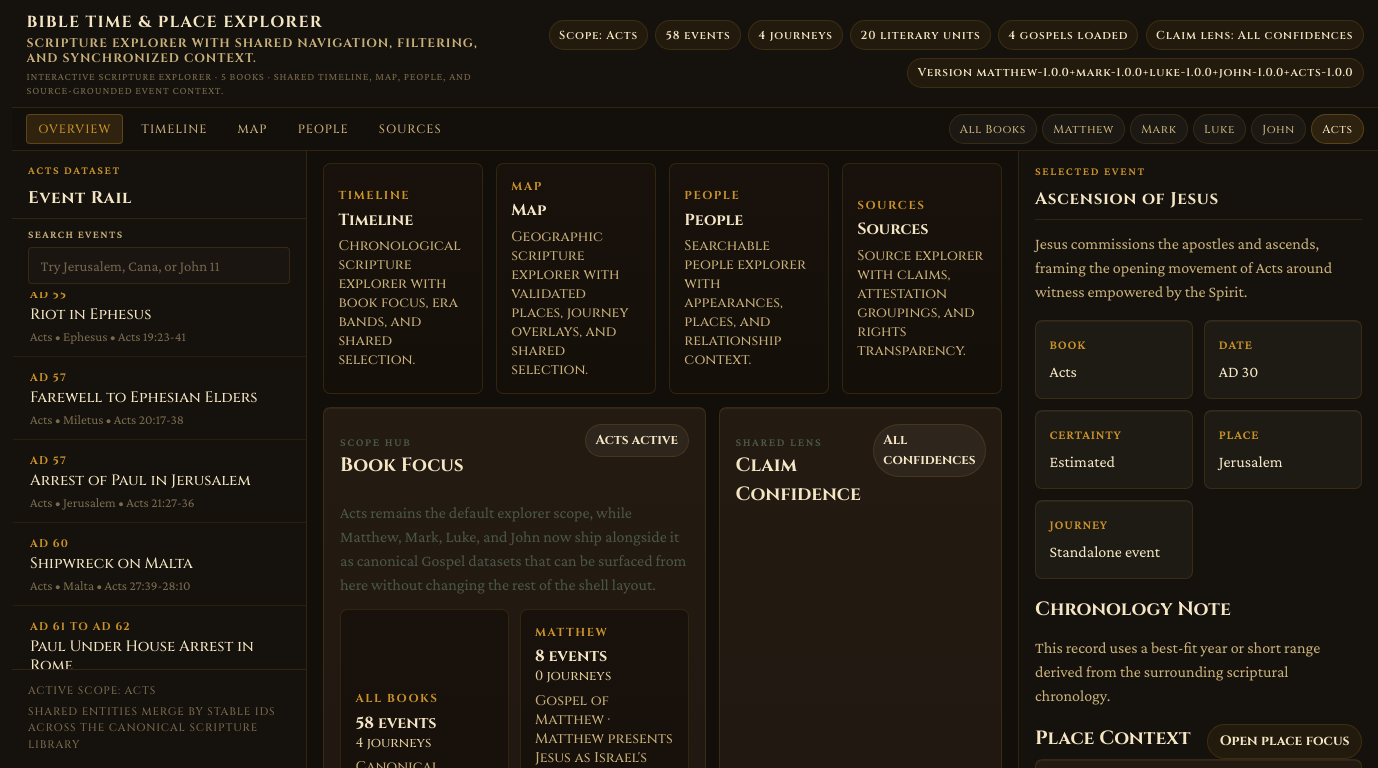
Test: App › renders external claims in the inspector without replacing canonical event detail
The image size is (1378, 768).
(page scrolled)
Click the button "Arrest of Paul in Jerusalem": coordinates (159, 481) [12, 439, 306, 522]
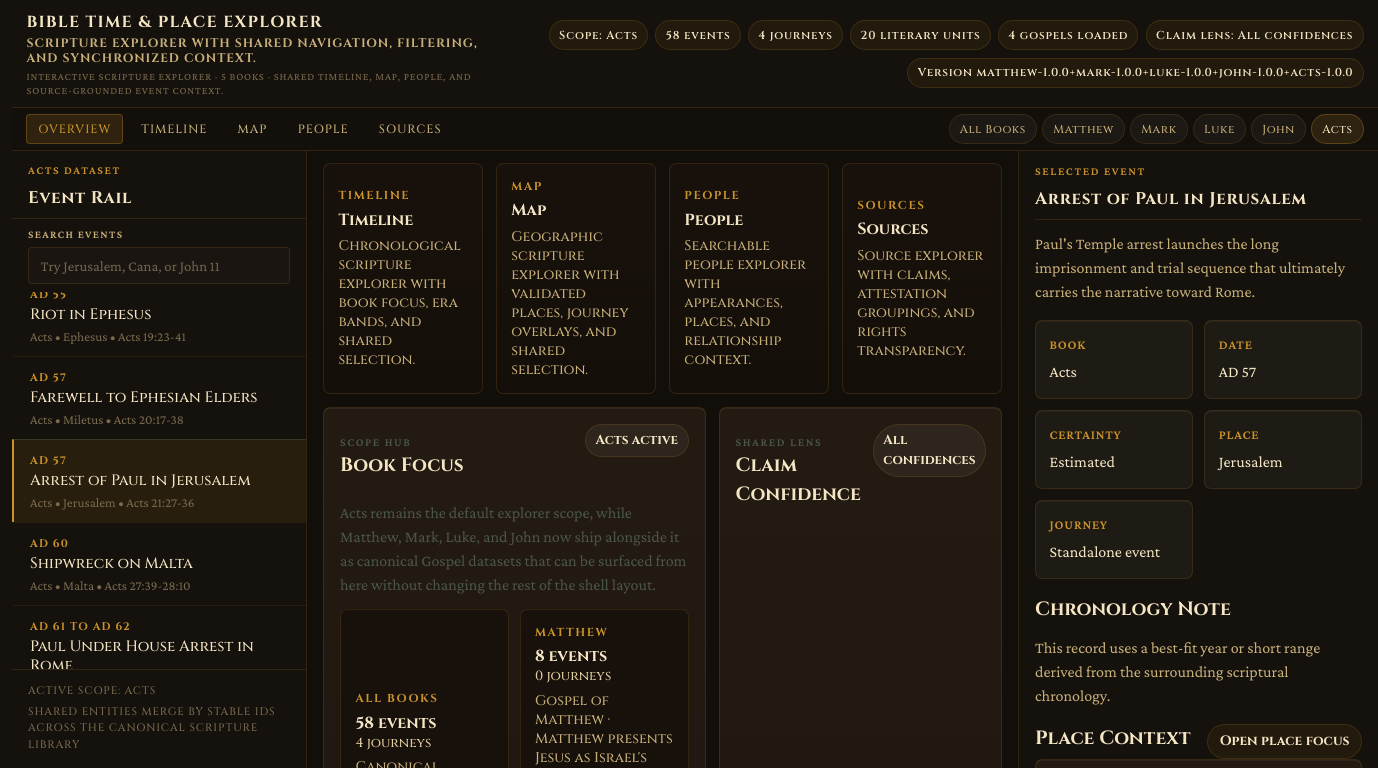
expect the heading "Arrest of Paul in Jerusalem" is shown: met, box [1035, 187, 1307, 210]
